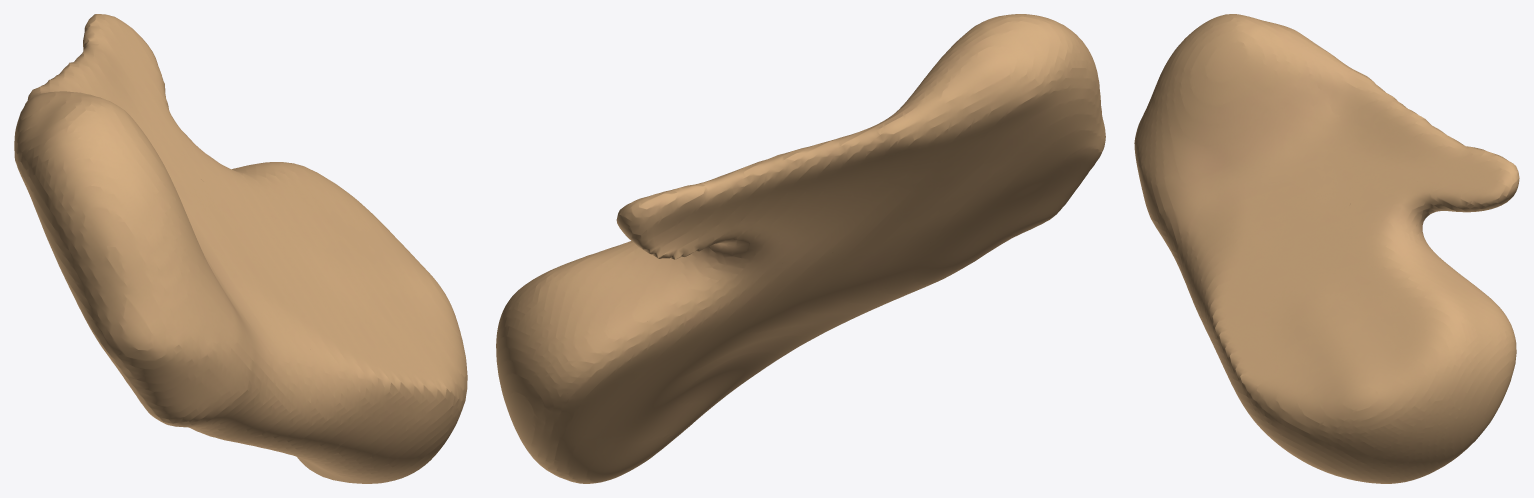
The model's file is kay-left.gltf.
The picture shows the model from 3 angles, left to right: view 1: azimuth 30°, elevation 25°; view 2: azimuth 150°, elevation 25°; view 3: azimuth 270°, elevation 25°; orthographic projection. The views are drawn at different scales.
Parts seen in each view (by area): view 1: Layer_5; view 2: Layer_5; view 3: Layer_5.
Part boxes in pixels (x1,y1,x2,y2): Layer_5: (14, 14, 467, 483); Layer_5: (496, 14, 1105, 483); Layer_5: (1134, 14, 1519, 483).
Size of the model in its own units: 49.83 by 48.73 by 48.9.
1 material, 1 textured.
